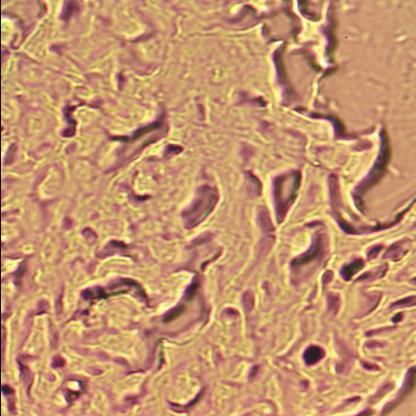Stage I: (0, 0, 361, 416)
